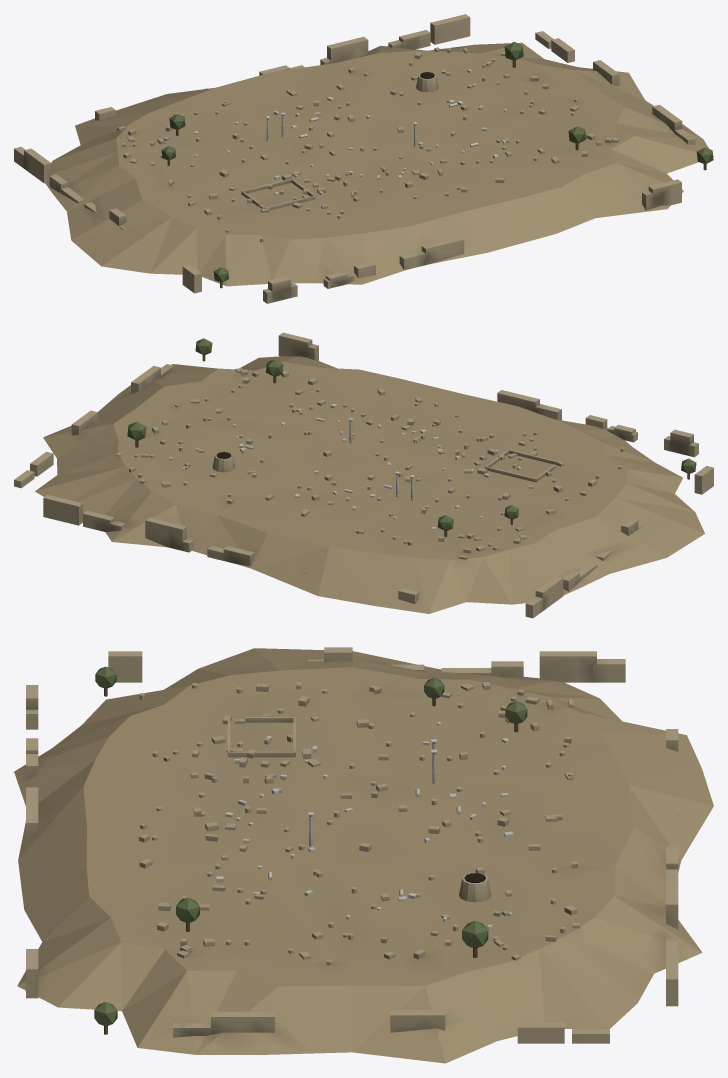
The model's file is byrsa-ruins.glb.
3 views of the same model, one above another, from view 1: azimuth 30°, elevation 25°; view 2: azimuth 150°, elevation 25°; view 3: azimuth 270°, elevation 25° (orthographic). The views are drawn at different scales.
Parts seen in each view (by area): view 1: p0_hill, p1_ruins, p2_life; view 2: p0_hill, p1_ruins, p2_life; view 3: p0_hill, p1_ruins, p2_life.
Boxes of the visible parts, x1,y1,x2,y2 form: p0_hill: [14, 14, 713, 303]; p1_ruins: [117, 47, 619, 242]; p2_life: [161, 42, 713, 288]; p0_hill: [14, 332, 713, 618]; p1_ruins: [116, 368, 624, 559]; p2_life: [127, 338, 696, 536]; p0_hill: [14, 647, 713, 1063]; p1_ruins: [139, 682, 580, 964]; p2_life: [94, 666, 527, 1034].
Bounding box in the file's own units: 239 × 18.79 × 171.
